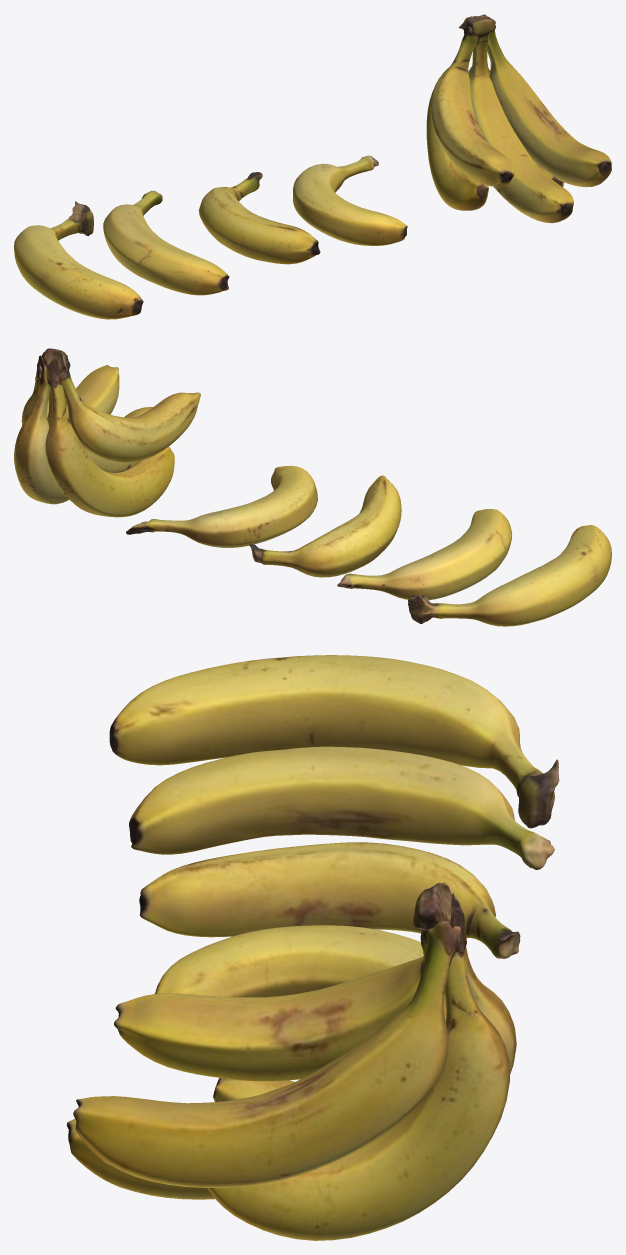
The picture shows the model from 3 angles, top to bottom: view 1: azimuth 30°, elevation 25°; view 2: azimuth 150°, elevation 25°; view 3: azimuth 270°, elevation 25°; orthographic projection. The views are drawn at different scales.
Parts seen in each view (by area): view 1: bananas_bunch, bananas_d, bananas_c, bananas_a, bananas_b; view 2: bananas_bunch, bananas_d, bananas_c, bananas_a, bananas_b; view 3: bananas_bunch, bananas_d, bananas_c, bananas_b, bananas_a.
Boxes of the visible parts, x1=… form: bananas_bunch: x1=426, y1=14, x2=611, y2=223; bananas_d: x1=14, y1=201, x2=143, y2=319; bananas_c: x1=103, y1=190, x2=229, y2=295; bananas_a: x1=293, y1=155, x2=407, y2=245; bananas_b: x1=198, y1=172, x2=320, y2=264; bananas_bunch: x1=14, y1=348, x2=200, y2=517; bananas_d: x1=408, y1=525, x2=611, y2=626; bananas_c: x1=337, y1=509, x2=511, y2=600; bananas_a: x1=126, y1=465, x2=317, y2=547; bananas_b: x1=249, y1=475, x2=401, y2=577; bananas_bunch: x1=67, y1=882, x2=516, y2=1240; bananas_d: x1=109, y1=655, x2=559, y2=828; bananas_c: x1=129, y1=746, x2=554, y2=869; bananas_b: x1=139, y1=842, x2=520, y2=958; bananas_a: x1=155, y1=925, x2=423, y2=997.
Bounding box in the file's own units: 0.6 × 0.1788 × 0.2441.
1 material, 1 textured.
